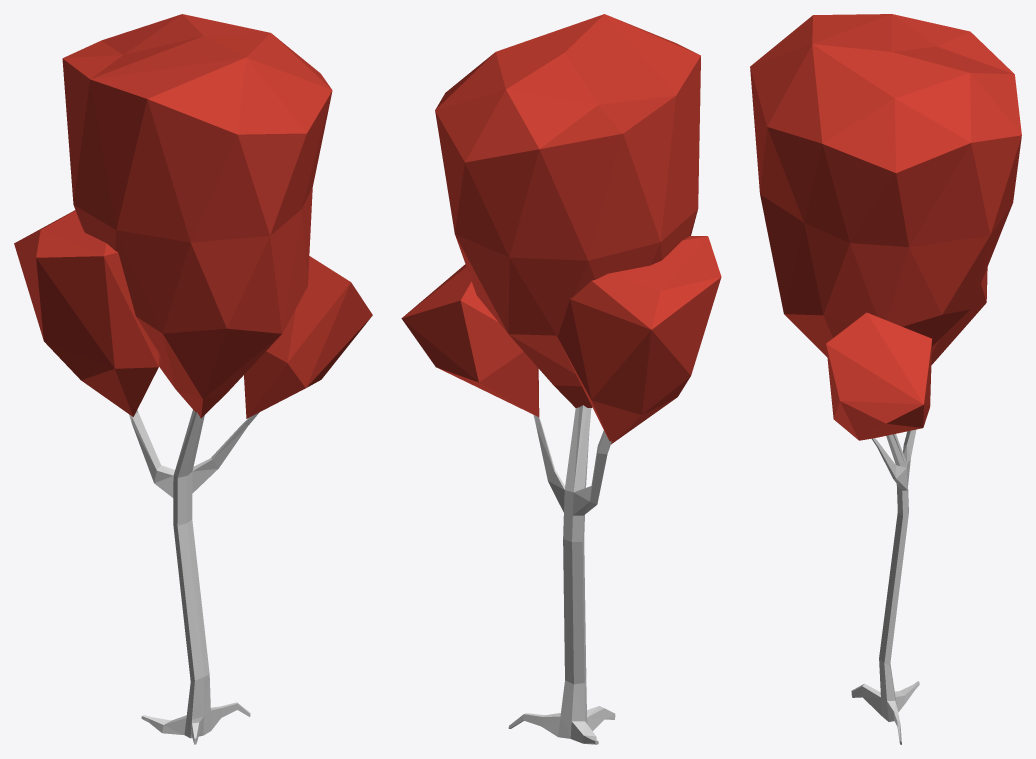
Rendered from world_2_tree_big.dae.
3 views of the same model, side by side, from view 1: azimuth 30°, elevation 25°; view 2: azimuth 150°, elevation 25°; view 3: azimuth 270°, elevation 25° (orthographic). The views are drawn at different scales.
Parts seen in each view (by area): view 1: big_red_leaves, big_red_base; view 2: big_red_leaves, big_red_base; view 3: big_red_leaves, big_red_base.
Boxes of the visible parts, box(x1,y1,x2,y2) form: big_red_leaves: box(14, 14, 372, 418); big_red_base: box(129, 410, 259, 744); big_red_leaves: box(401, 14, 721, 444); big_red_base: box(508, 405, 615, 744); big_red_leaves: box(750, 14, 1021, 440); big_red_base: box(851, 429, 919, 744).
Bounding box in the file's own units: 4.21 × 3.26 × 8.96.
